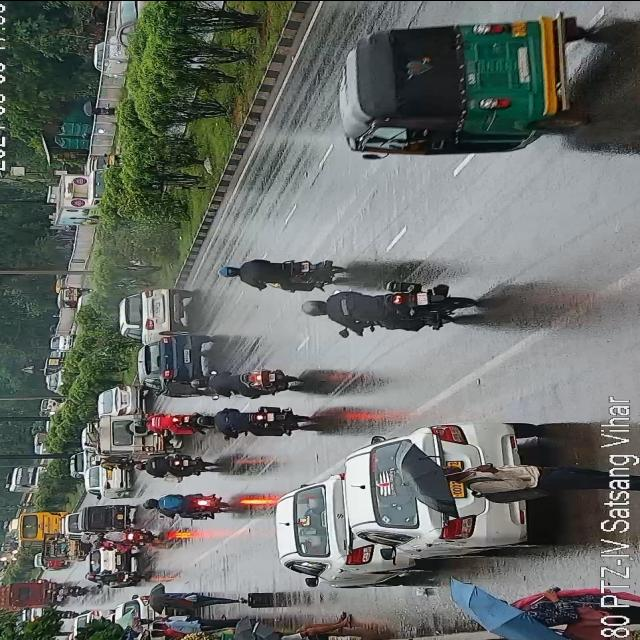2-wheelers: (297, 278, 476, 334), (228, 256, 348, 289), (192, 404, 315, 436), (186, 364, 300, 394), (144, 491, 226, 520), (137, 453, 207, 481), (144, 412, 206, 437), (101, 524, 158, 549), (79, 570, 139, 586)
auto: (342, 7, 582, 158), (80, 504, 132, 533), (57, 281, 87, 310), (44, 358, 65, 369)
bus: (15, 506, 68, 544), (8, 464, 44, 492)
car: (351, 423, 540, 578), (277, 472, 391, 584), (141, 326, 212, 396), (122, 280, 190, 338), (84, 454, 128, 498), (114, 597, 156, 640), (116, 0, 156, 44), (99, 378, 145, 414), (90, 36, 130, 75), (97, 433, 179, 452), (84, 548, 126, 576), (46, 539, 88, 559), (50, 334, 74, 349), (46, 372, 66, 389), (82, 422, 95, 448), (70, 452, 85, 474), (34, 561, 62, 569)
pedestrian: (436, 461, 592, 502), (491, 585, 593, 623), (254, 614, 348, 640), (154, 610, 238, 633), (160, 588, 247, 607), (82, 99, 124, 116)
truck: (54, 163, 114, 224), (7, 580, 60, 608)
